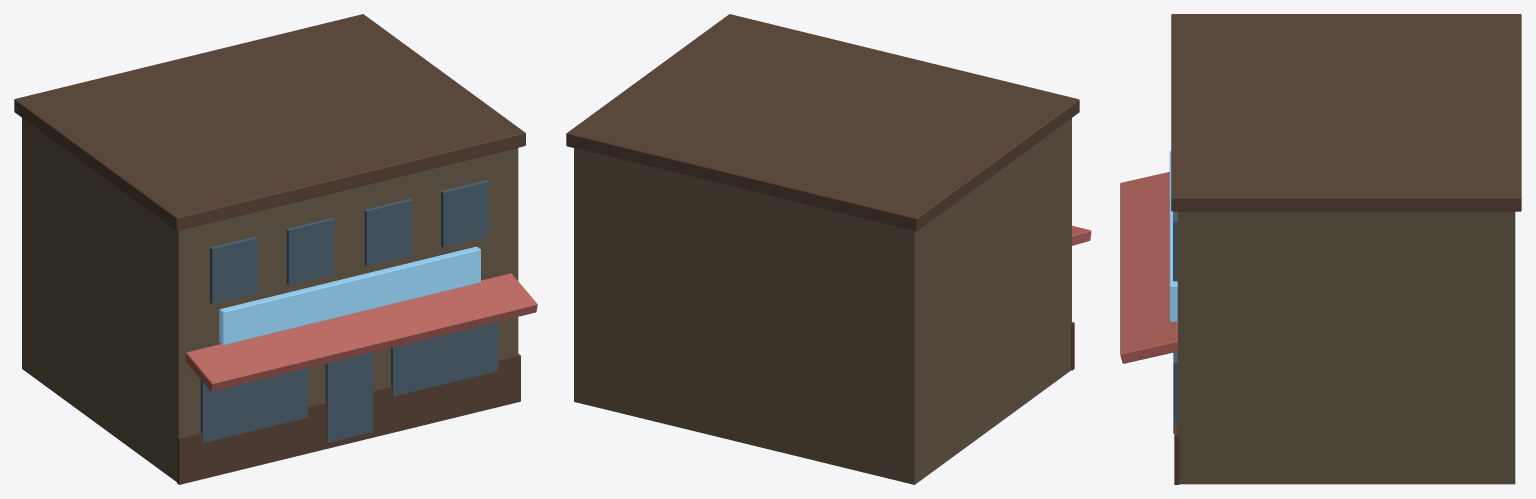
The model's file is SM_LA_Bldg_ShopStucco.glb.
3 views of the same model, side by side, from view 1: azimuth 30°, elevation 25°; view 2: azimuth 150°, elevation 25°; view 3: azimuth 270°, elevation 25° (orthographic). The views are drawn at different scales.
Visible parts, largest first — view 1: SM_LA_Bldg_ShopStucco_Mesh; view 2: SM_LA_Bldg_ShopStucco_Mesh; view 3: SM_LA_Bldg_ShopStucco_Mesh.
Boxes of the visible parts, x1=… form: SM_LA_Bldg_ShopStucco_Mesh: x1=14, y1=14, x2=537, y2=484; SM_LA_Bldg_ShopStucco_Mesh: x1=566, y1=14, x2=1091, y2=484; SM_LA_Bldg_ShopStucco_Mesh: x1=1120, y1=14, x2=1521, y2=484.
Size of what is drawn, in the model's own units: 10.3 by 7.57 by 9.51.
Materials: 5 (2 with a texture image).
